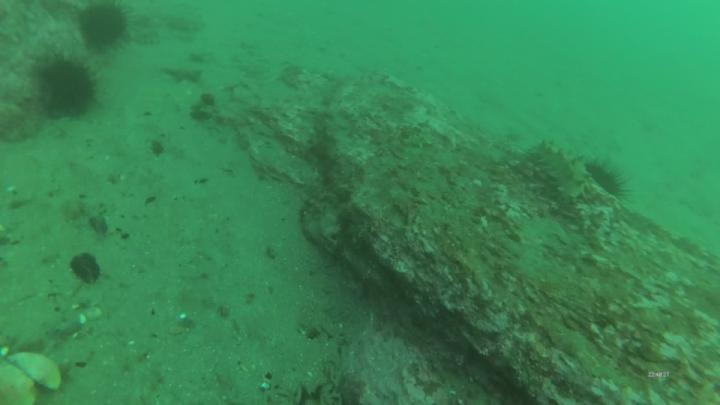echinus: (522, 138, 593, 207)
starfish: (33, 53, 105, 123), (75, 1, 134, 52), (587, 158, 634, 207)
